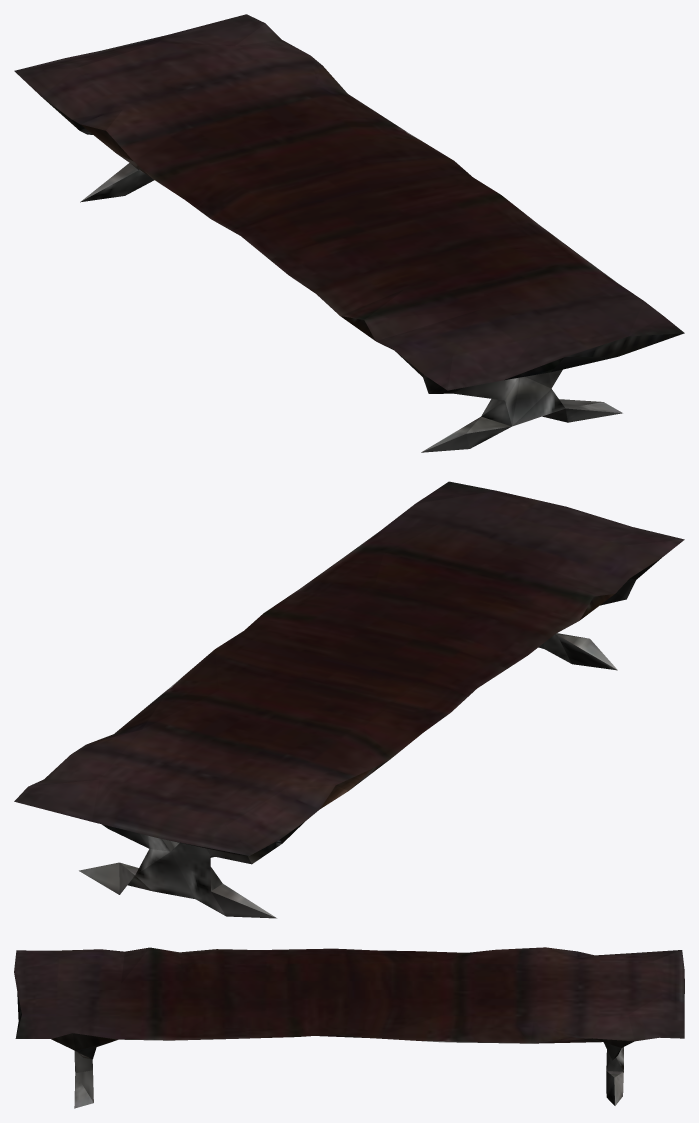
The model's file is gym_bench_low.glb.
3 views of the same model, one above another, from view 1: azimuth 30°, elevation 25°; view 2: azimuth 150°, elevation 25°; view 3: azimuth 270°, elevation 25° (orthographic). The views are drawn at different scales.
Parts seen in each view (by area): view 1: m; view 2: m; view 3: m.
Boxes of the visible parts, <box> form: m: <box>14,14,684,452</box>; m: <box>14,481,684,918</box>; m: <box>14,947,684,1108</box>.
Size of the model in its own units: 0.8731 by 0.4 by 2.76.
Materials: 1 (1 with a texture image).
